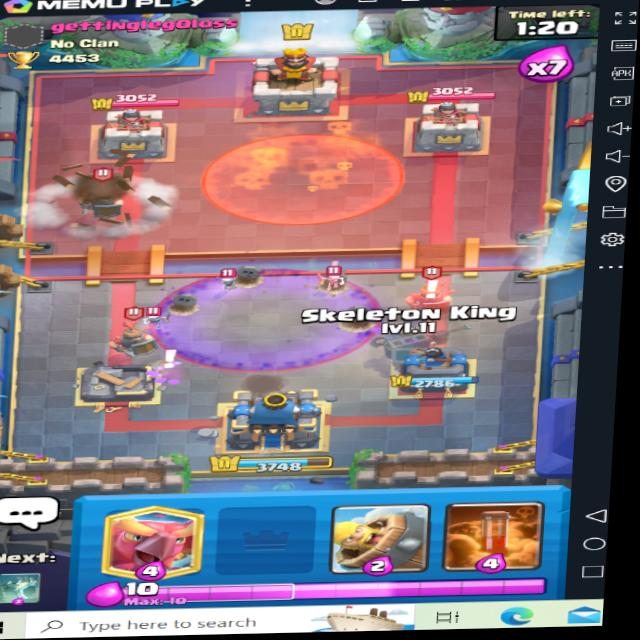Graveyard: (145, 265, 388, 378)
Poison: (205, 125, 407, 227)
Royalrecruits: (393, 265, 465, 323), (69, 168, 139, 225), (99, 308, 156, 360)
Skeleton: (304, 266, 348, 295), (205, 269, 244, 295), (143, 309, 171, 330)
